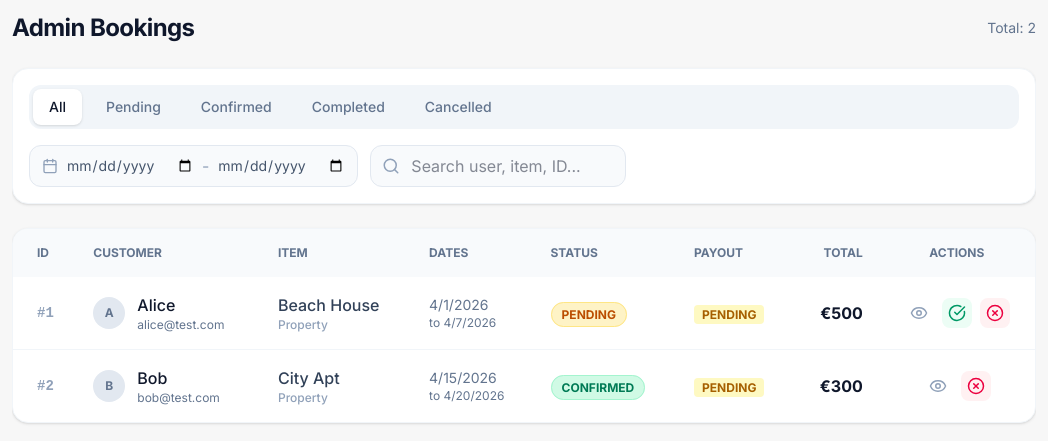
BookingsPage › filtering by date range end: excludes bookings after end date
Expected: the text "Bob" is shown, [137, 368, 167, 388]
Type "2026-04-05" into the date field named "Filter bookings to date". click: [281, 166]
box: [217, 156, 345, 176]
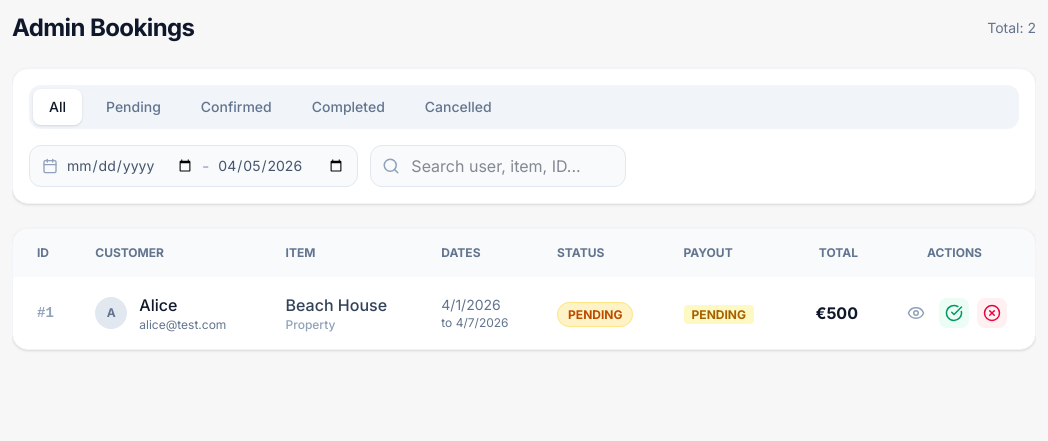
Expected: the text "Alice" is shown, [139, 295, 177, 315]
Result: the text "Bob" is gone
